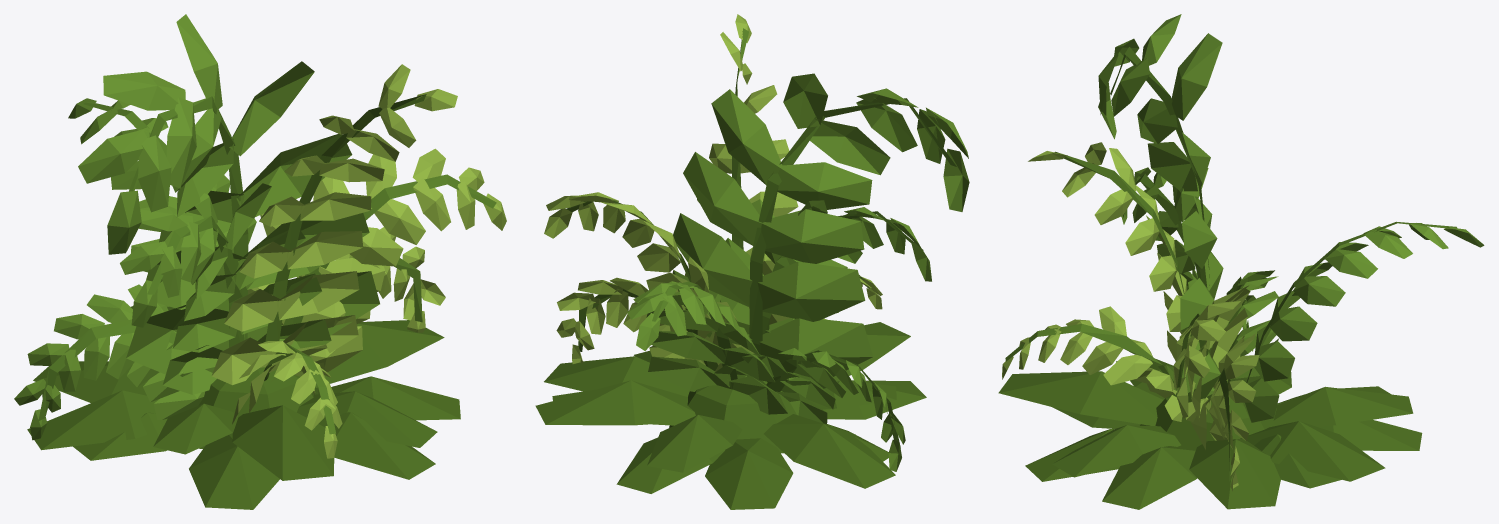
3 views of the same model, side by side, from view 1: azimuth 30°, elevation 25°; view 2: azimuth 150°, elevation 25°; view 3: azimuth 270°, elevation 25° (orthographic). The views are drawn at different scales.
Visible parts, largest first — view 1: fronds, crown, fronds_young, rachises; view 2: fronds, crown, fronds_young, rachises; view 3: crown, fronds, fronds_young, rachises.
Part boxes in pixels (x1,y1,x2,y2): fronds: (14,14,379,440); crown: (27,279,460,509); fronds_young: (212,64,506,458); rachises: (38,94,496,434); fronds: (627,73,969,471); crown: (535,322,926,509); fronds_young: (544,14,882,378); rachises: (566,28,956,447); crown: (998,359,1422,509); fronds: (1098,14,1484,422); fronds_young: (1002,142,1259,491); rachises: (1005,47,1456,481).
Bounding box in the file's own units: 0.85 × 0.74 × 0.87.
